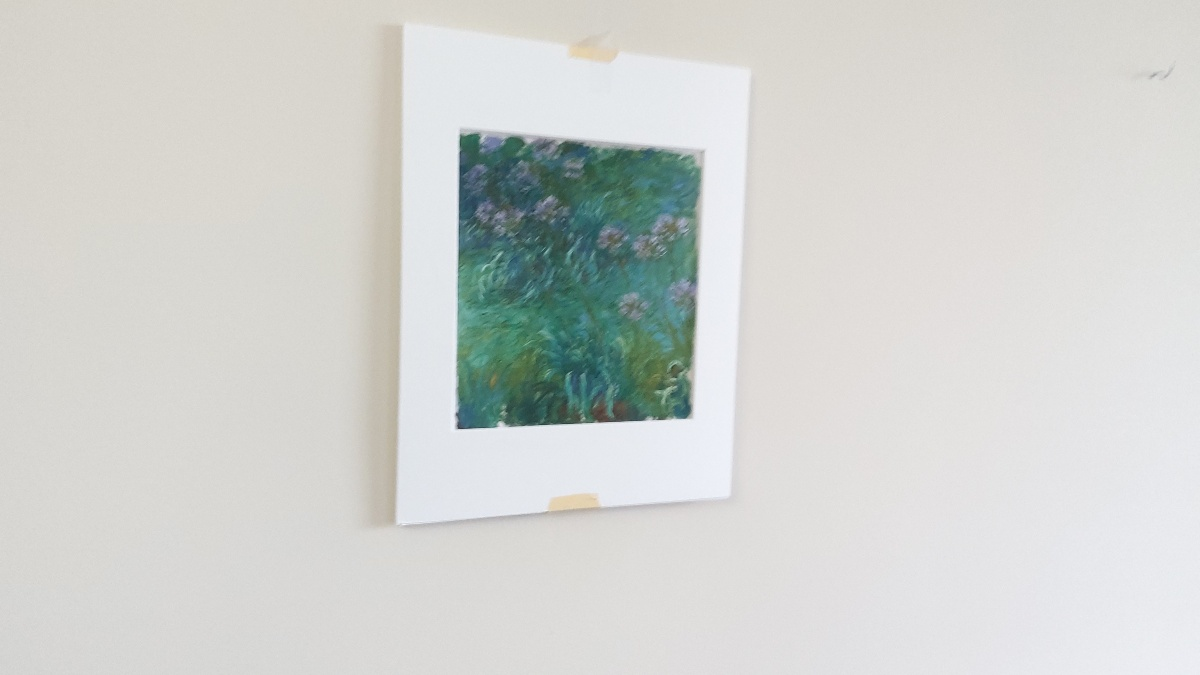painting: (445, 111, 709, 441)
